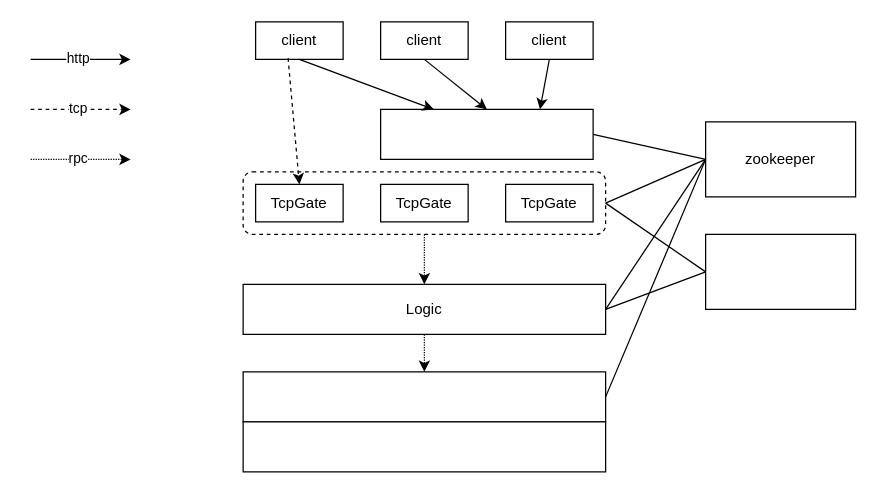
Some shapes in this 878 by 494 pixel diagram are drawn without their labels. The shapes that lost their labels are listed below. From the top down, each one's centre as x and y in pixels, then its label:
At point 486,133: "ipconfig".
At point 780,271: "redis".
At point 424,396: "DAS".
At point 424,446: "mysql".
